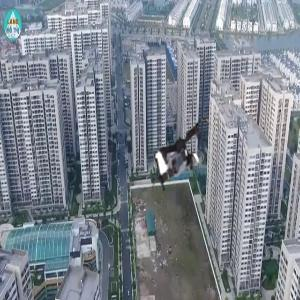drone: (144, 117, 222, 195)
